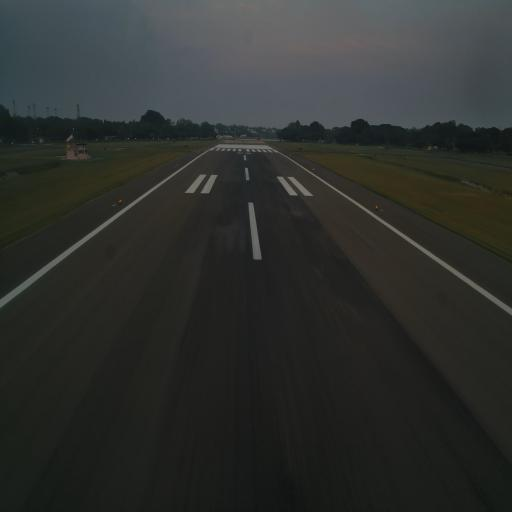on: (117, 196, 124, 206), (374, 202, 378, 211)
